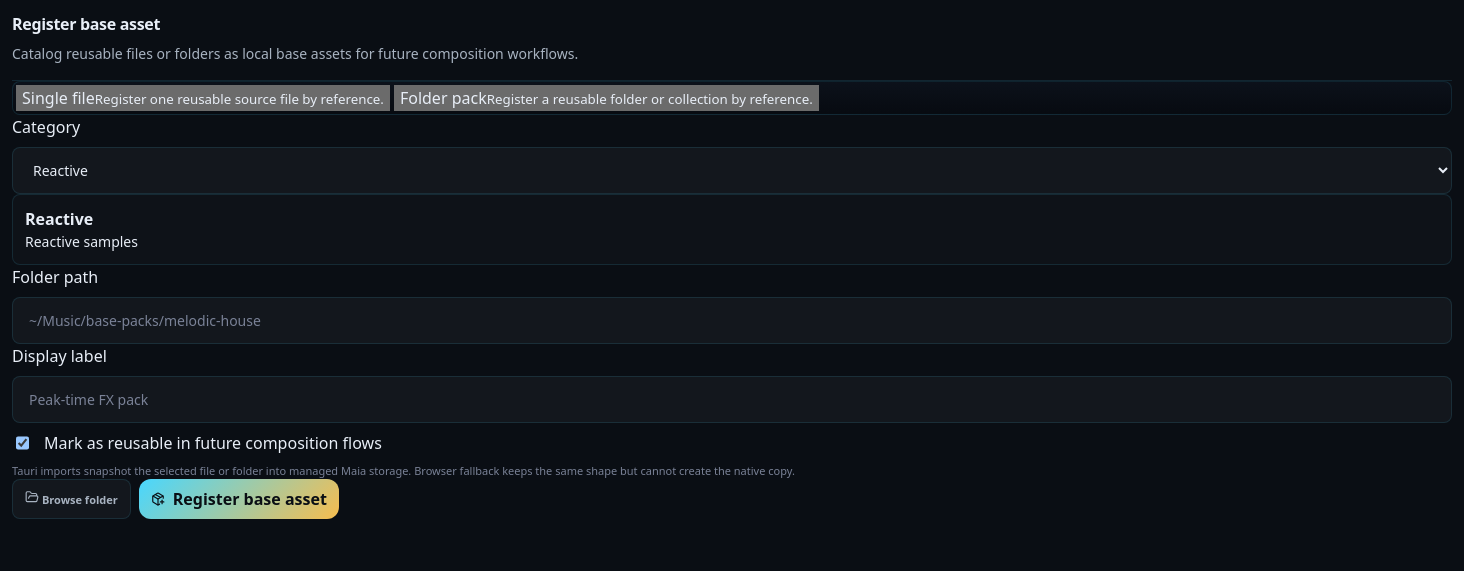
Test: ImportBaseAssetForm › shows picker failures
The width and height of the screenshot is (1464, 571).
Click the button "Browse folder" at point(71, 499), box [12,479,131,519]
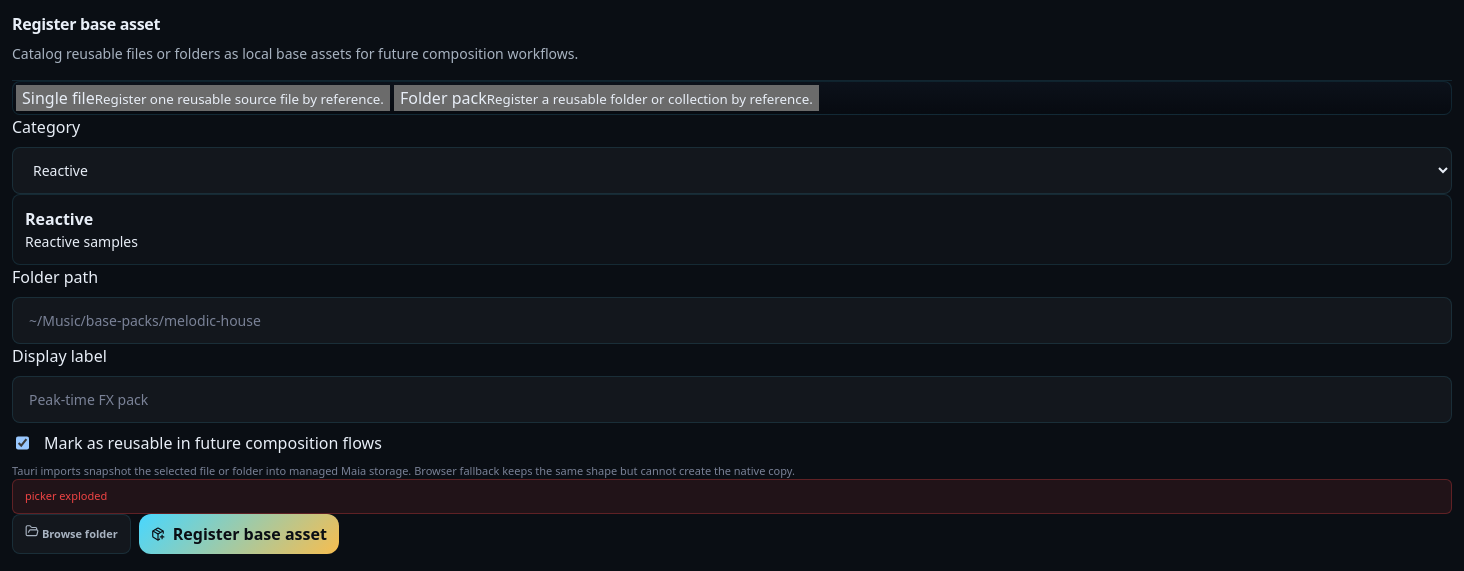
Result: the text "picker exploded" is shown at [12,479,1452,514]
